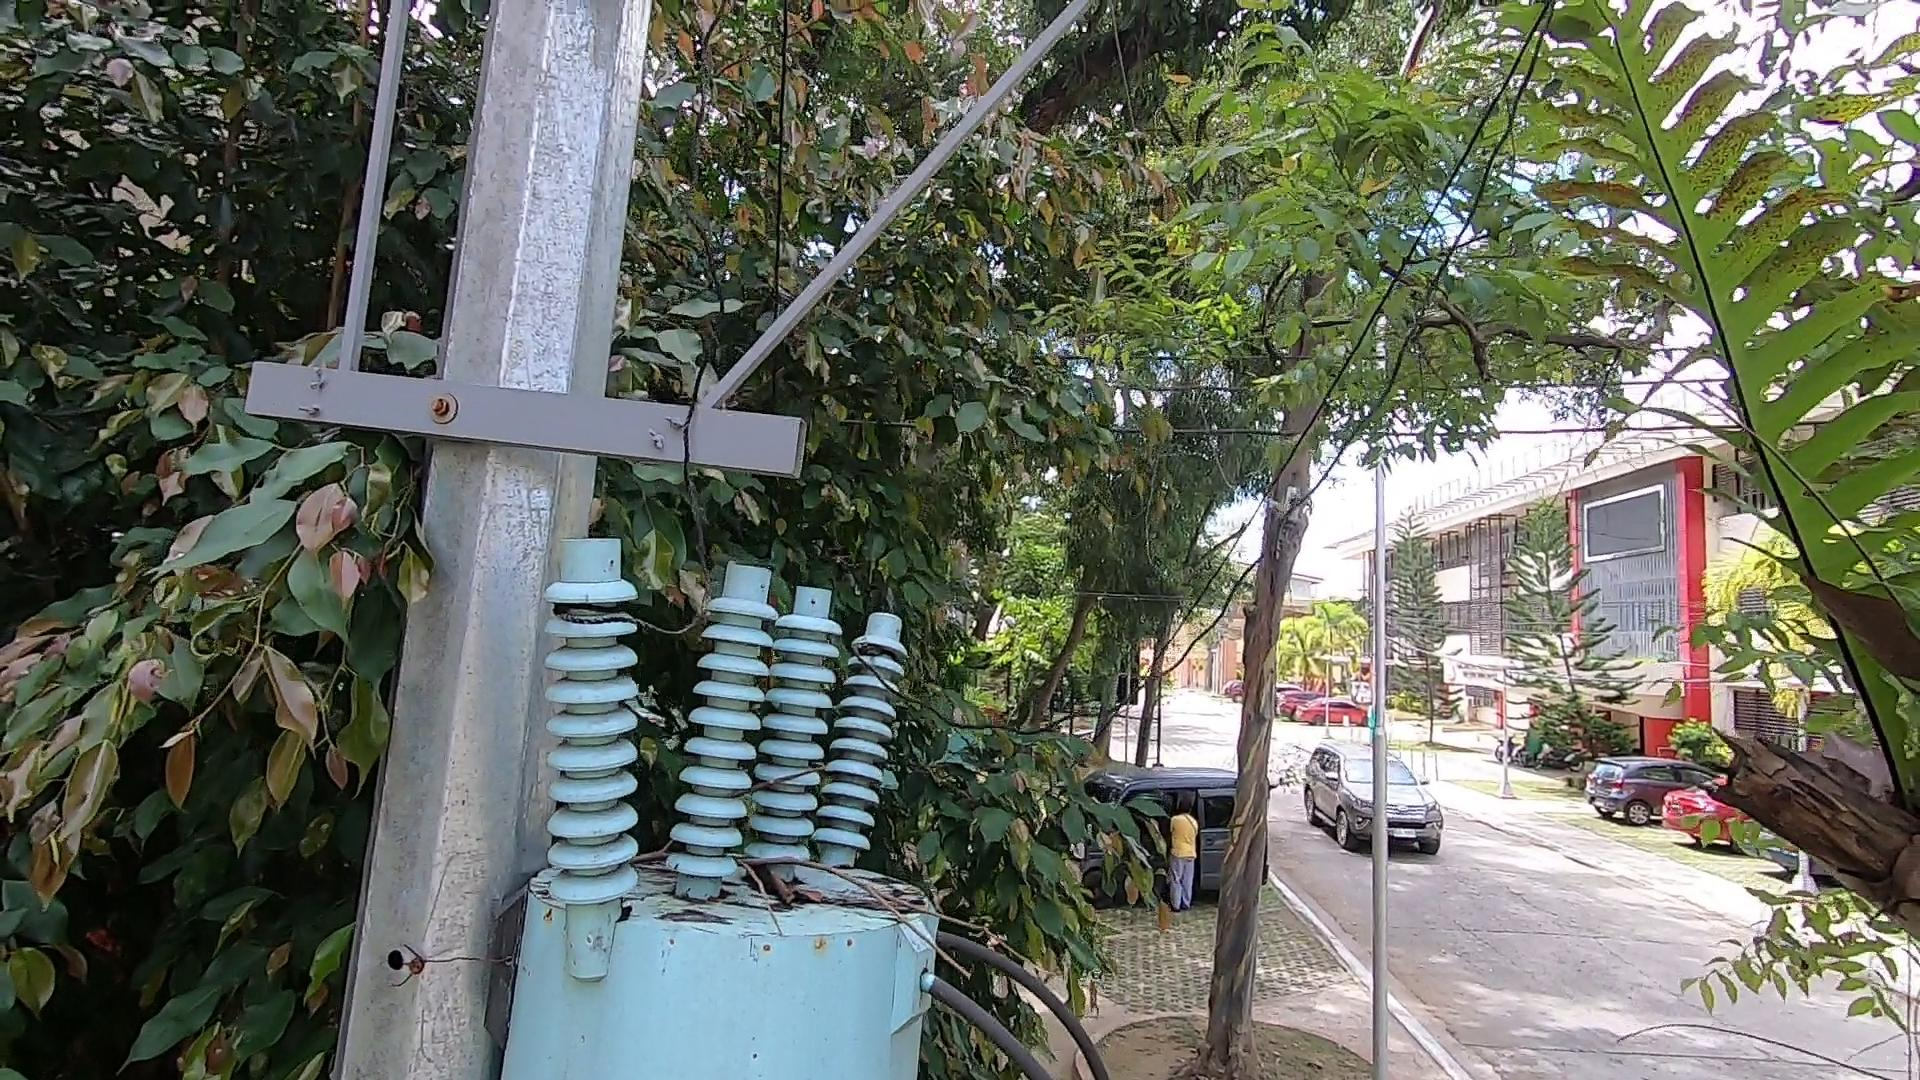leaf: (724, 847, 835, 914)
tree branch: (601, 798, 1036, 1000)
